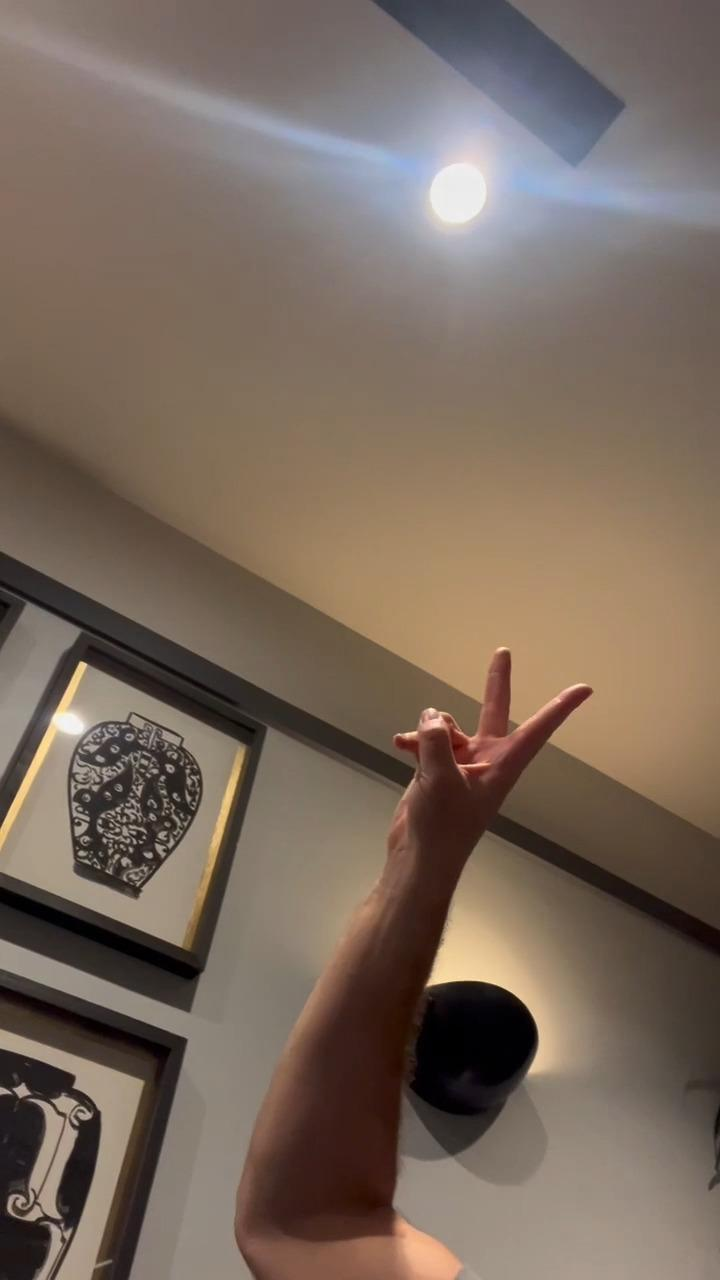Scissors: (384, 648, 594, 862)
